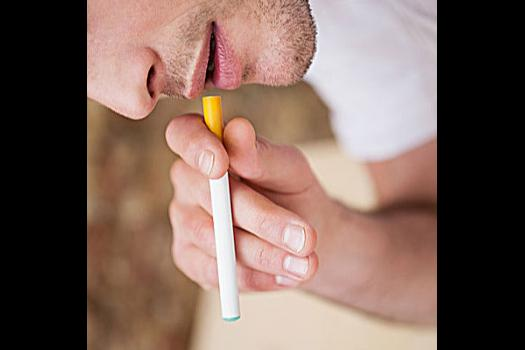Cigarette: (202, 94, 242, 322)
